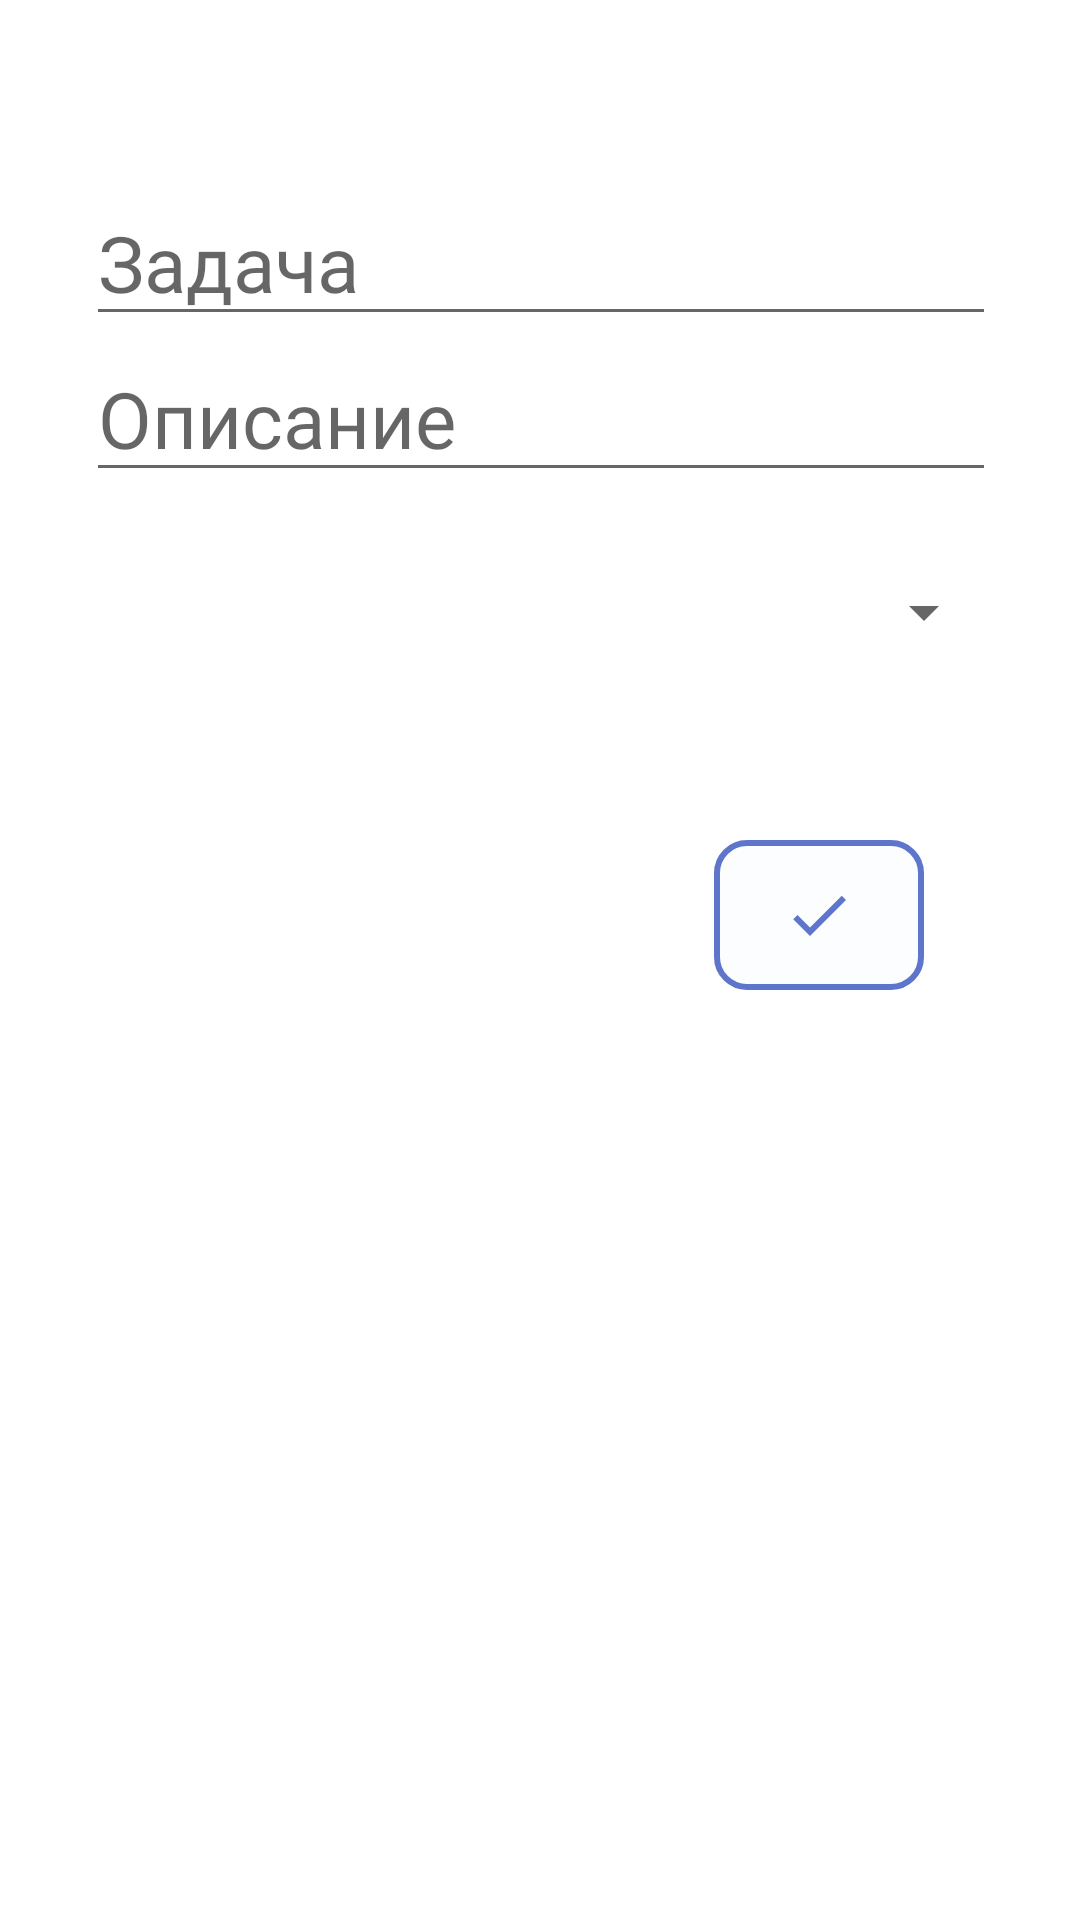

Screen size 1080x1920. Icon name, then its box in pixels as (x1, y1, x2, y2):
сохранить: (714, 840, 924, 990)
